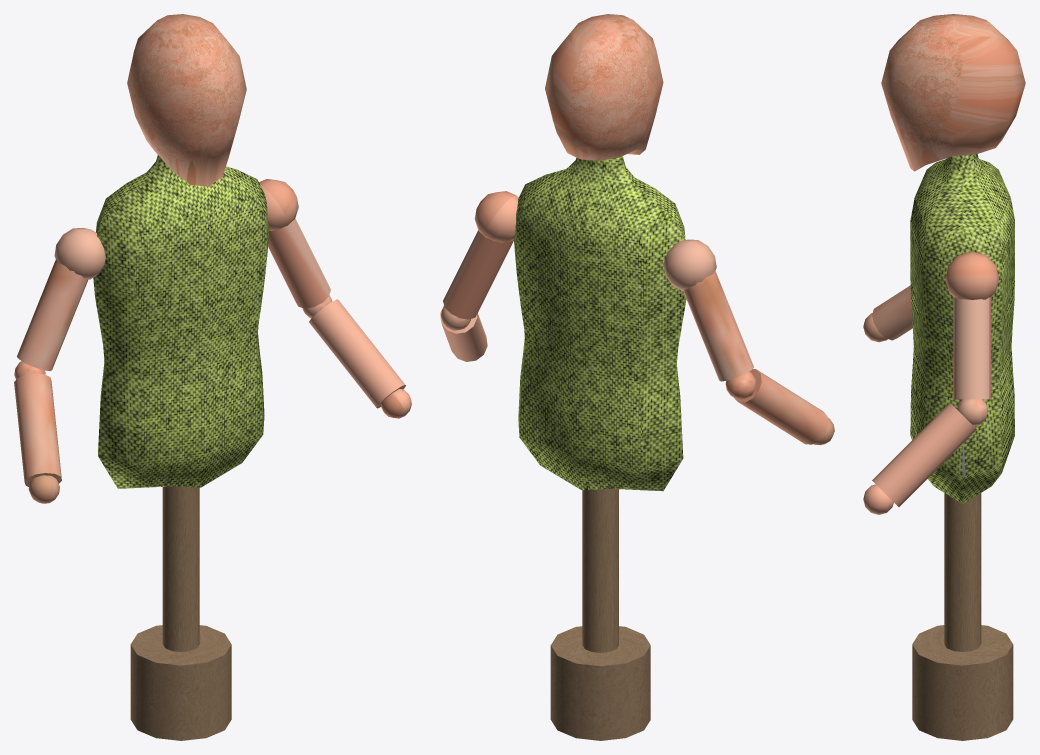
File: TheMannequin.fbx
The picture shows the model from 3 angles, left to right: view 1: azimuth 30°, elevation 25°; view 2: azimuth 150°, elevation 25°; view 3: azimuth 270°, elevation 25°; orthographic projection.
Visible parts, largest first — view 1: Box001, Sphere001, Cylinder008, Cylinder007, Cylinder005, Cylinder002, Cylinder001, Cylinder006, Sphere002, Sphere010, Sphere004, Sphere008; view 2: Box001, Sphere001, Cylinder008, Cylinder007, Cylinder001, Cylinder002, Cylinder006, Sphere002, Sphere010, Cylinder005; view 3: Box001, Sphere001, Cylinder008, Cylinder007, Cylinder005, Cylinder006, Sphere010, Cylinder002, Sphere008, Sphere009, Sphere004.
Part boxes in pixels (x1=…): Box001: x1=93, y1=155, x2=269, y2=488; Sphere001: x1=127, y1=14, x2=246, y2=186; Cylinder008: x1=130, y1=625, x2=231, y2=740; Cylinder007: x1=162, y1=486, x2=199, y2=651; Cylinder005: x1=309, y1=299, x2=405, y2=408; Cylinder002: x1=14, y1=373, x2=61, y2=486; Cylinder001: x1=17, y1=259, x2=87, y2=370; Cylinder006: x1=268, y1=218, x2=330, y2=308; Sphere002: x1=54, y1=228, x2=105, y2=279; Sphere010: x1=259, y1=179, x2=298, y2=230; Sphere004: x1=28, y1=475, x2=59, y2=503; Sphere008: x1=381, y1=389, x2=411, y2=418; Box001: x1=514, y1=156, x2=686, y2=491; Sphere001: x1=545, y1=14, x2=663, y2=160; Cylinder008: x1=550, y1=626, x2=650, y2=740; Cylinder007: x1=582, y1=488, x2=618, y2=652; Cylinder001: x1=683, y1=271, x2=753, y2=381; Cylinder002: x1=734, y1=369, x2=828, y2=444; Cylinder006: x1=443, y1=230, x2=513, y2=319; Sphere002: x1=663, y1=239, x2=716, y2=290; Sphere010: x1=474, y1=191, x2=518, y2=242; Cylinder005: x1=440, y1=305, x2=487, y2=361; Box001: x1=910, y1=154, x2=1014, y2=503; Sphere001: x1=881, y1=14, x2=1025, y2=171; Cylinder008: x1=912, y1=625, x2=1013, y2=740; Cylinder007: x1=944, y1=493, x2=981, y2=651; Cylinder005: x1=872, y1=403, x2=976, y2=506; Cylinder006: x1=953, y1=297, x2=991, y2=399; Sphere010: x1=945, y1=251, x2=999, y2=299; Cylinder002: x1=872, y1=285, x2=912, y2=340; Sphere008: x1=863, y1=484, x2=893, y2=514; Sphere009: x1=957, y1=399, x2=987, y2=426; Sphere004: x1=863, y1=313, x2=887, y2=342.
Bounding box in the file's own units: 39.41 × 69.72 × 14.63.
1 material, 1 textured.
